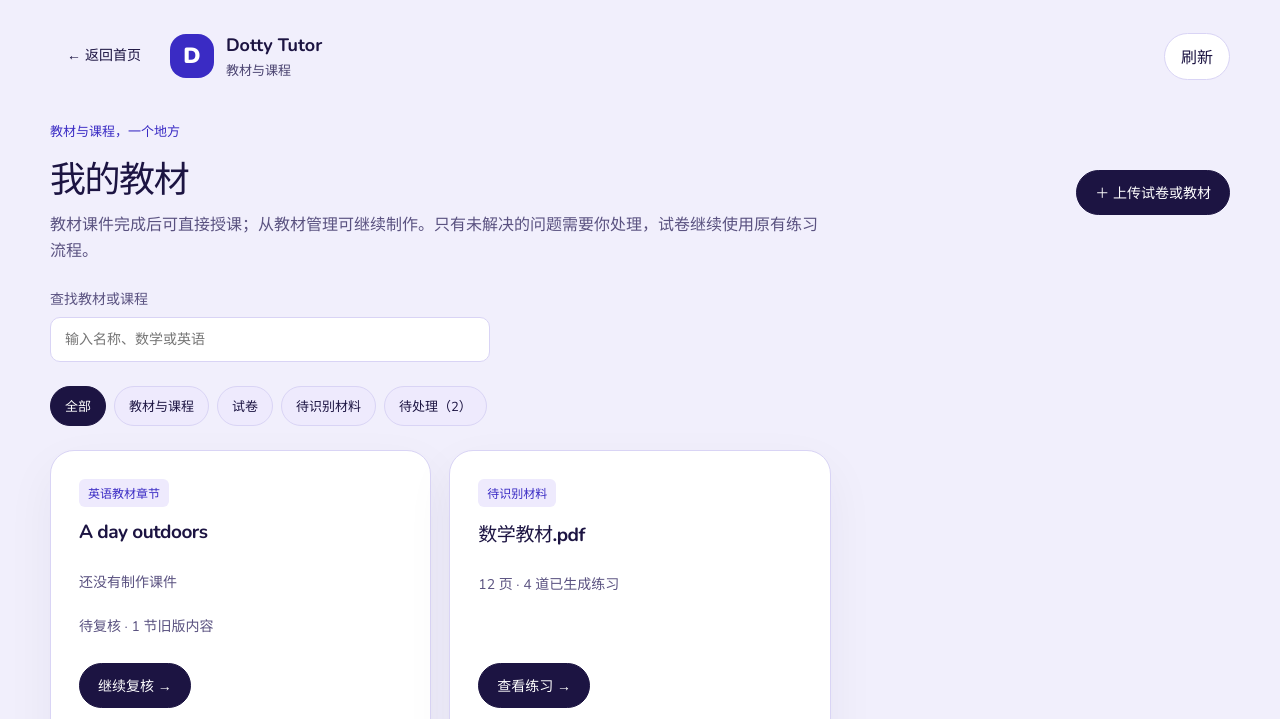
Scenario: user Given same-titled legacy packages and published-video tasks When opening my review inbox Then each source stays grouped separately and routes to the correc
Expected: the heading "数学教材.pdf" is shown, [478,519,585,548]
Click the button "待处理（2）" at (436, 406), box [384,386,487,426]
(page scrolled)
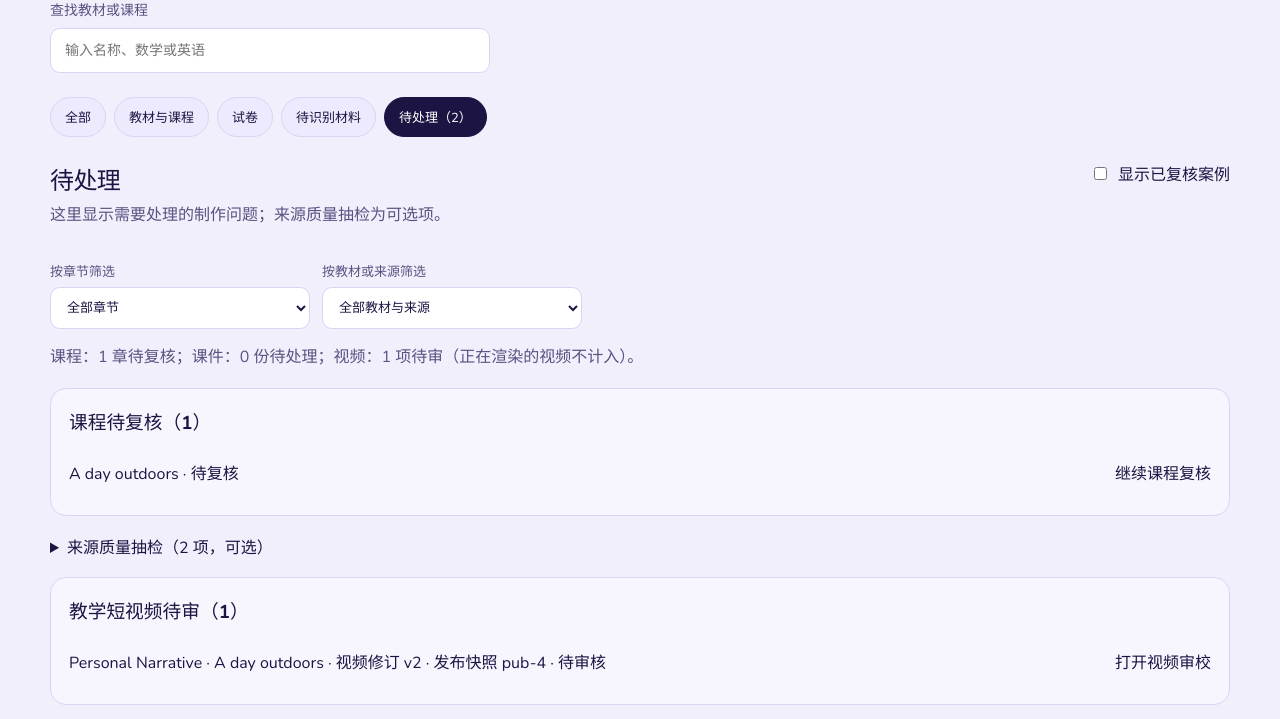
Click the heading "来源质量抽检（2 项，可选）" at (170, 548), box [67,537,273,559]
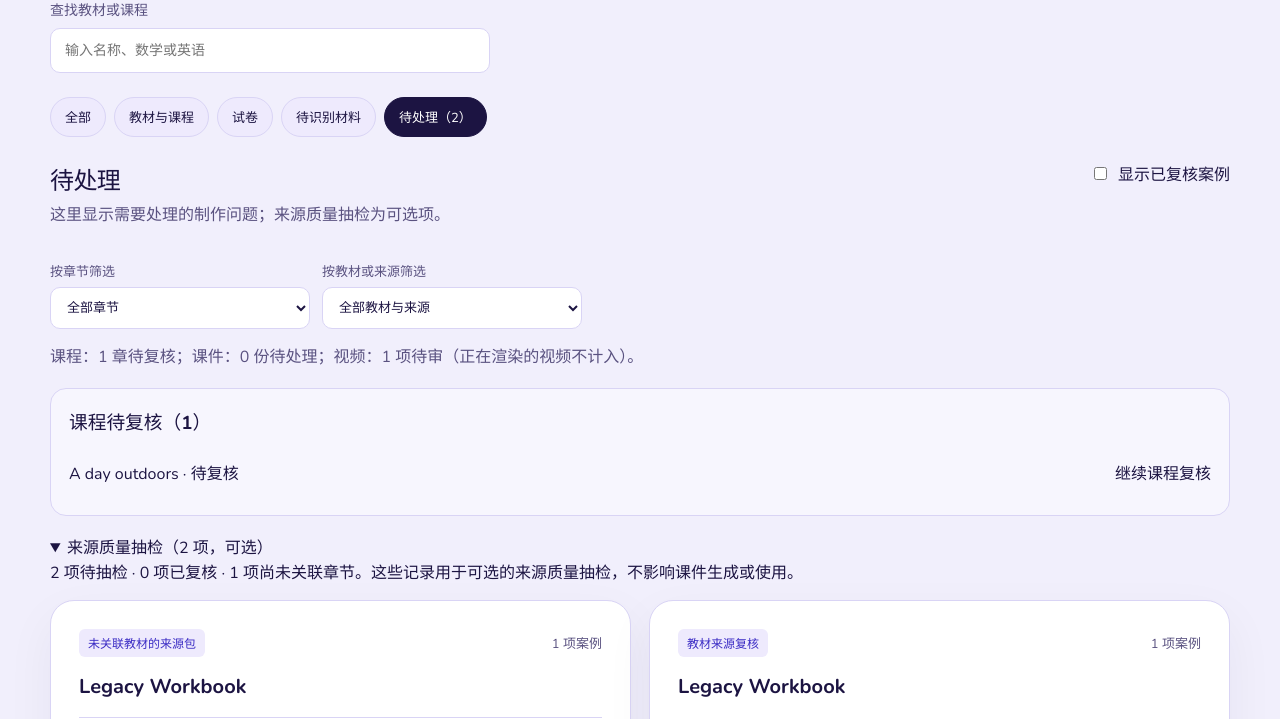
Expected: the heading "课程待复核（1）" is shown, [69,410,211,436]
Expected: the number of headings "Legacy Workbook" is 2, [79,673,246,701]; [678,673,845,701]
Expected: the text "未关联教材的来源包" is shown, [79,629,205,657]
